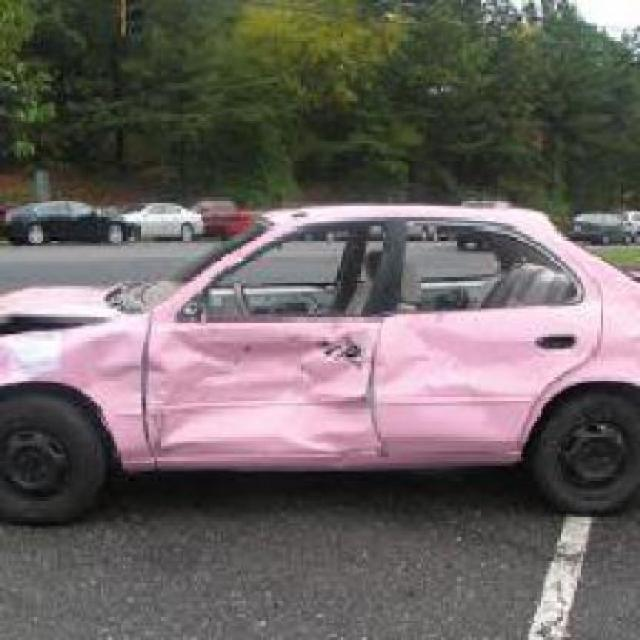damaged-door: (146, 220, 385, 468), (391, 214, 591, 463)
